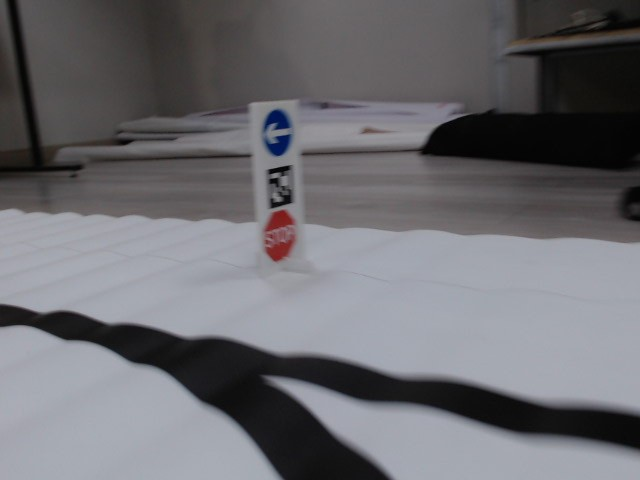Stop: (263, 210, 299, 261)
